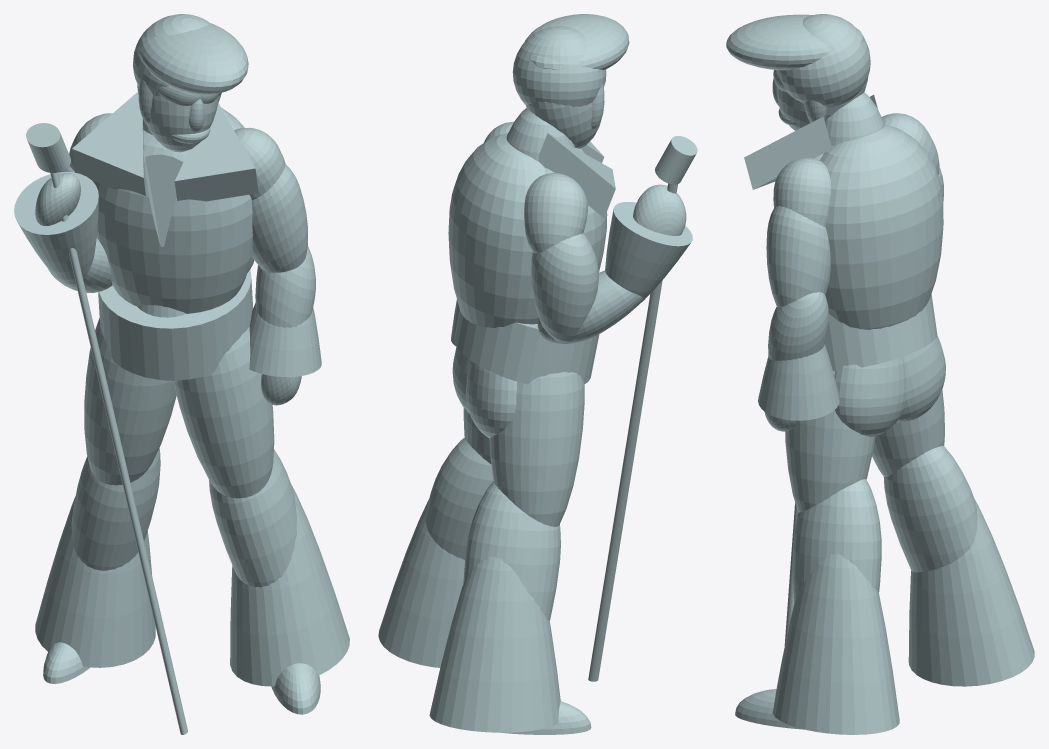
The model's file is asset.glb.
The picture shows the model from 3 angles, left to right: view 1: azimuth 30°, elevation 25°; view 2: azimuth 150°, elevation 25°; view 3: azimuth 270°, elevation 25°; orthographic projection. The views are drawn at different scales.
Parts seen in each view (by area): view 1: Mesh_Mesh_head_geo.001_lambert2SG.001; view 2: Mesh_Mesh_head_geo.001_lambert2SG.001; view 3: Mesh_Mesh_head_geo.001_lambert2SG.001.
Boxes of the visible parts, left/top/right/bottom form: Mesh_Mesh_head_geo.001_lambert2SG.001: left=14, top=14, right=349, bottom=734; Mesh_Mesh_head_geo.001_lambert2SG.001: left=378, top=14, right=697, bottom=734; Mesh_Mesh_head_geo.001_lambert2SG.001: left=726, top=14, right=1034, bottom=734.
Bounding box in the file's own units: 18.76 × 39.06 × 16.2.
